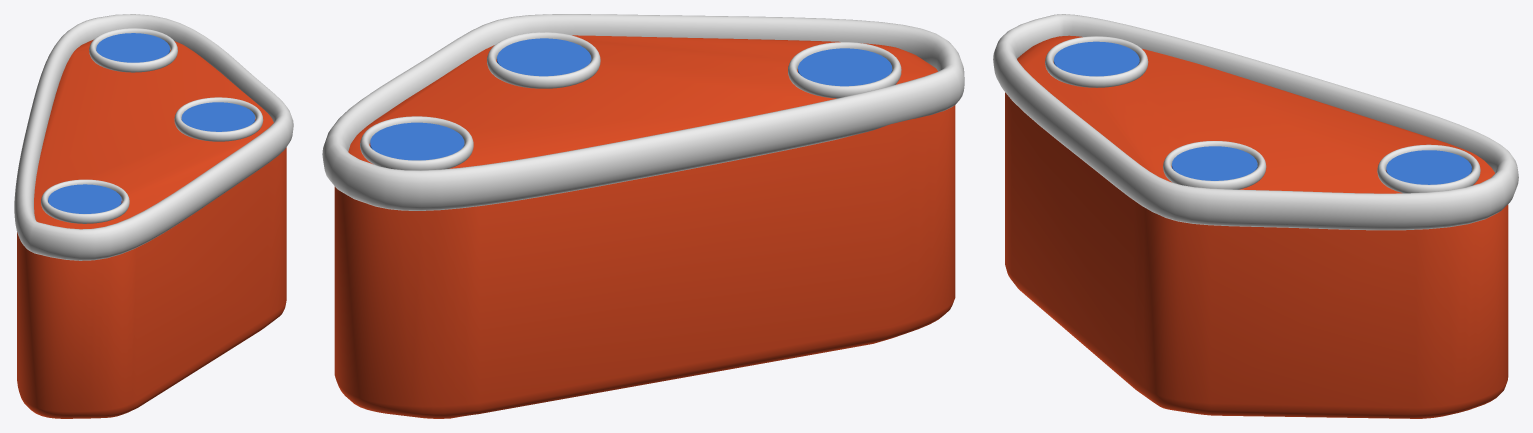
File: Triangular Bumper Inversed.fbx
The picture shows the model from 3 angles, left to right: view 1: azimuth 30°, elevation 25°; view 2: azimuth 150°, elevation 25°; view 3: azimuth 270°, elevation 25°; orthographic projection. The views are drawn at different scales.
Parts seen in each view (by area): view 1: Cube.032; view 2: Cube.032; view 3: Cube.032.
Part boxes in pixels (x1,y1,x2,y2): Cube.032: (14,14,293,418); Cube.032: (322,14,964,418); Cube.032: (993,14,1518,418).
Size of the model in its own units: 36 by 20.59 by 42.23.
